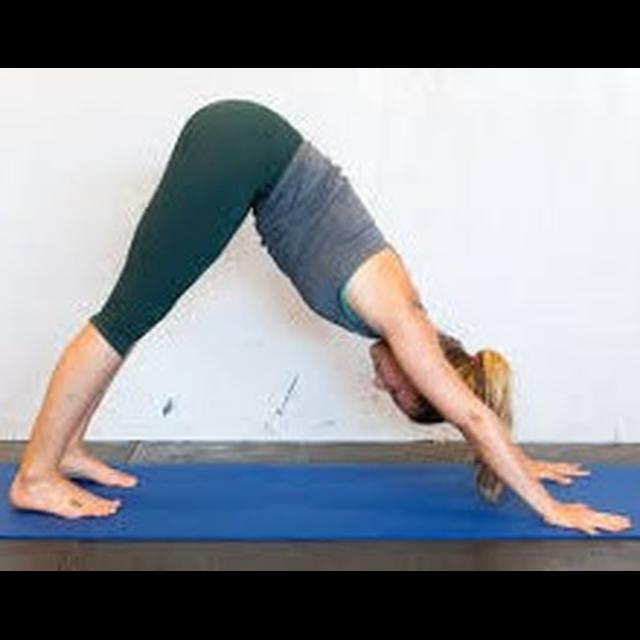Downward-Facing_Dog: (3, 96, 632, 554)
